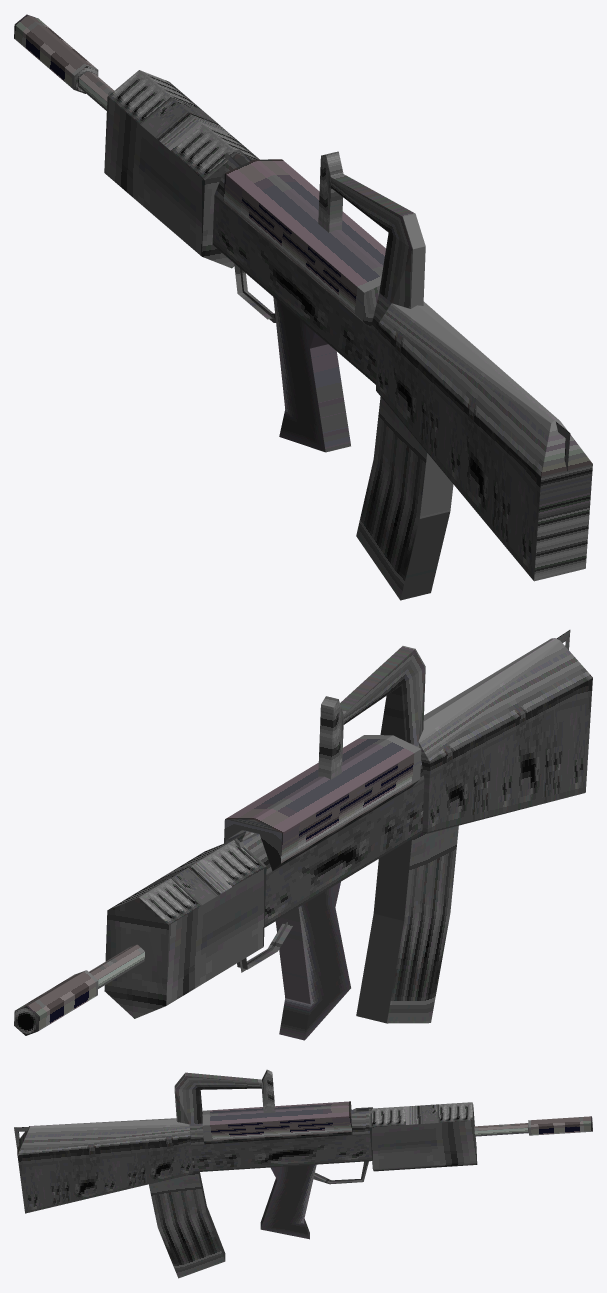
The model's file is recovered_gun_iw80a2_327c49ff.glb.
The picture shows the model from 3 angles, top to bottom: view 1: azimuth 30°, elevation 25°; view 2: azimuth 150°, elevation 25°; view 3: azimuth 270°, elevation 25°; orthographic projection. The views are drawn at different scales.
Parts seen in each view (by area): view 1: Gun_6f50e350adf6, Gun_6c98ae12a1ae; view 2: Gun_6f50e350adf6, Gun_6c98ae12a1ae, Gun_379f7b5fa02f; view 3: Gun_6f50e350adf6, Gun_6c98ae12a1ae.
Boxes of the visible parts, x1,y1,x2,y2 form: Gun_6f50e350adf6: (104,70,592,600); Gun_6c98ae12a1ae: (14,14,385,452); Gun_6f50e350adf6: (104,630,592,1023); Gun_6c98ae12a1ae: (15,735,421,1040); Gun_379f7b5fa02f: (14,1006,38,1035); Gun_6f50e350adf6: (14,1069,477,1278); Gun_6c98ae12a1ae: (202,1101,592,1239).
Bounding box in the file's own units: 0.0485 × 0.2865 × 0.7389.
Materials: 3 (3 with a texture image).
